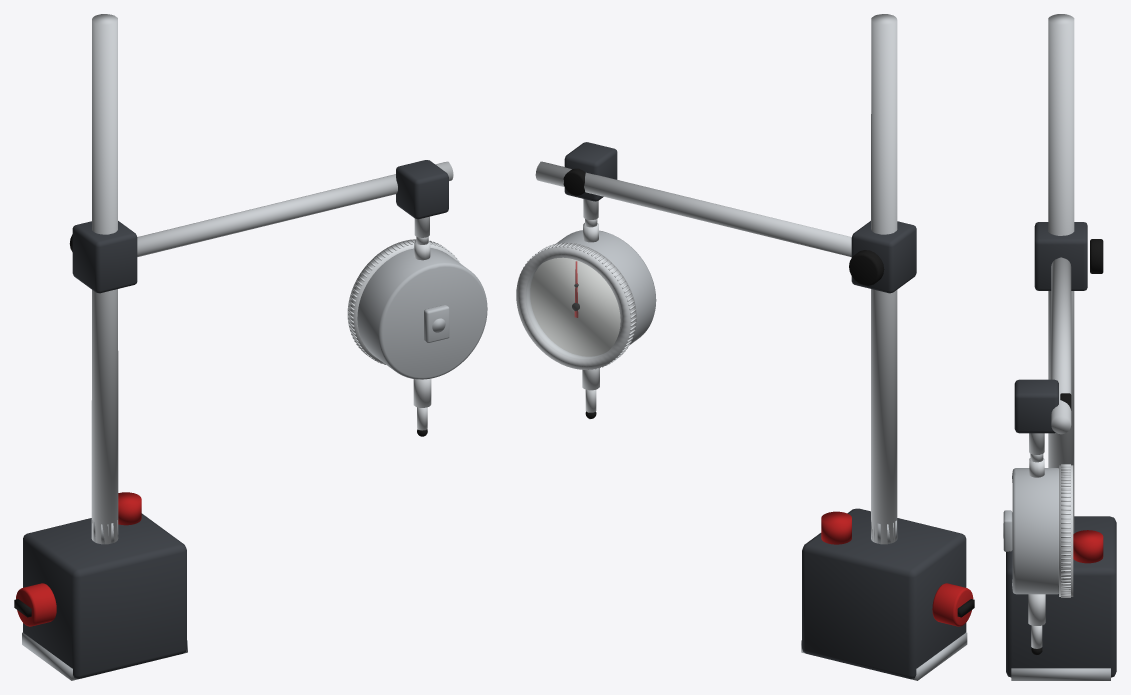
Rendered from dial-gauge.glb.
3 views of the same model, side by side, from view 1: azimuth 30°, elevation 25°; view 2: azimuth 150°, elevation 25°; view 3: azimuth 270°, elevation 25° (orthographic).
Parts seen in each view (by area): view 1: Stand, Case, Bezel; view 2: Stand, Bezel, Crystal, Case; view 3: Stand, Case, Bezel, Spindle.
Part boxes in pixels (x1=…): Stand: x1=14, y1=14, x2=453, y2=680; Case: x1=357, y1=241, x2=487, y2=407; Bezel: x1=347, y1=239, x2=460, y2=364; Stand: x1=535, y1=14, x2=974, y2=680; Bezel: x1=516, y1=242, x2=636, y2=369; Crystal: x1=526, y1=258, x2=620, y2=359; Case: x1=555, y1=223, x2=656, y2=390; Stand: x1=1006, y1=14, x2=1116, y2=680; Case: x1=1003, y1=458, x2=1058, y2=625; Bezel: x1=1059, y1=464, x2=1073, y2=597; Spindle: x1=1030, y1=453, x2=1043, y2=654.
Size of the model in its own units: 0.2342 by 0.3151 by 0.0511.
